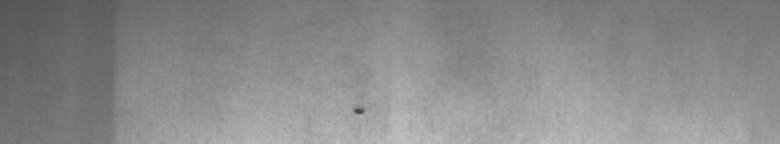fi: (349, 100, 368, 120)
